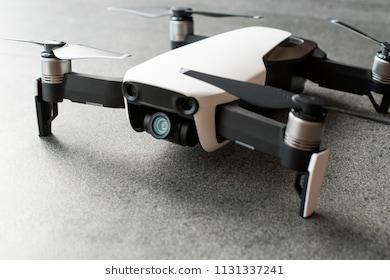drone: (8, 0, 390, 219)
